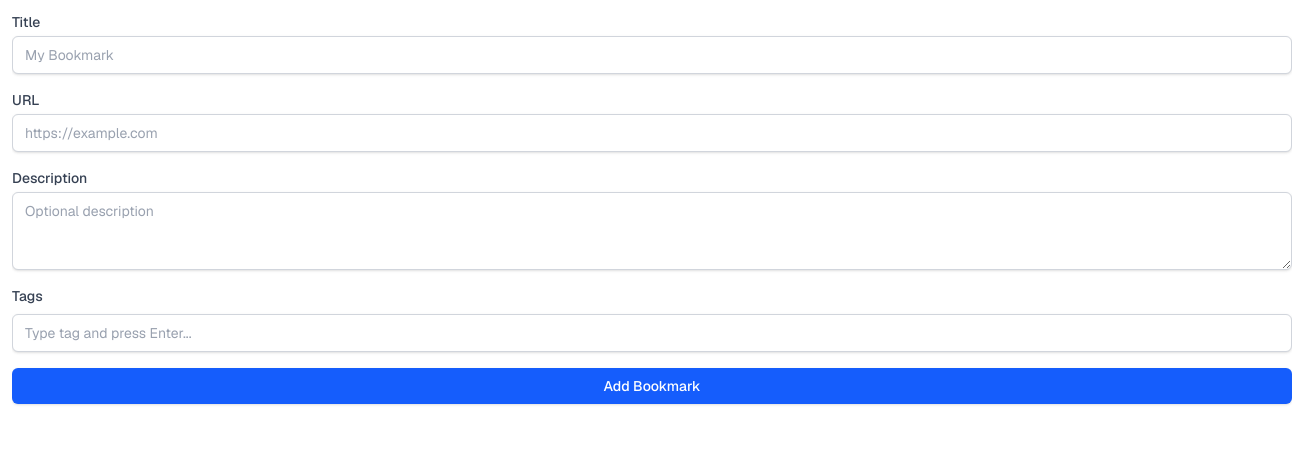
AddBookmarkForm (Edit Mode) › clears form fields after successful submit (add mode)
The image size is (1304, 456).
Type "New Bookmark" into the field labelled "Title".
click(652, 55); type("New Bookmark")  # box [12, 36, 1292, 74]
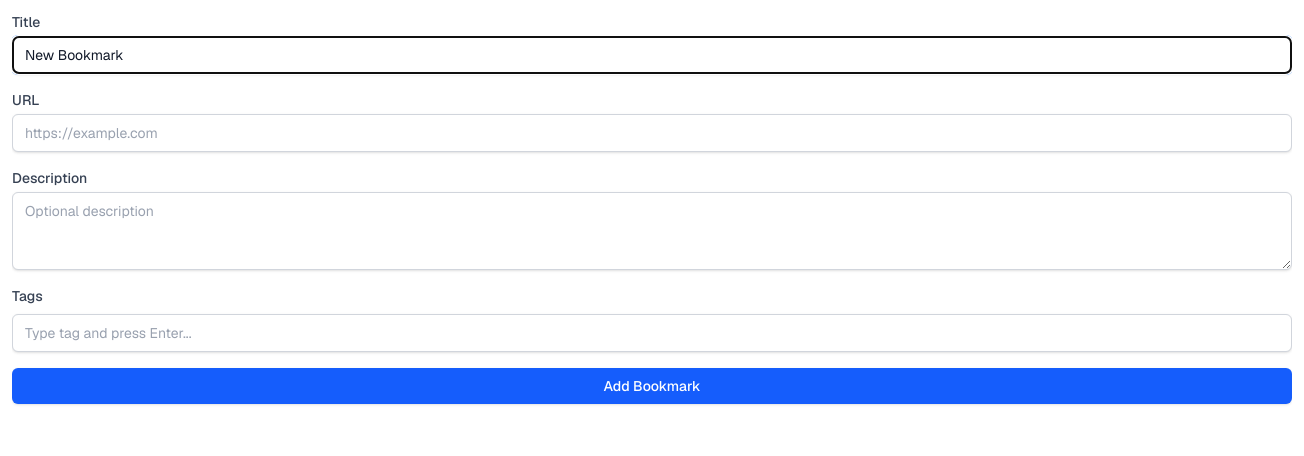
Type "https://new-bookmark.com" into the field labelled "URL".
click(652, 133); type("https://new-bookmark.com")  # box [12, 114, 1292, 152]
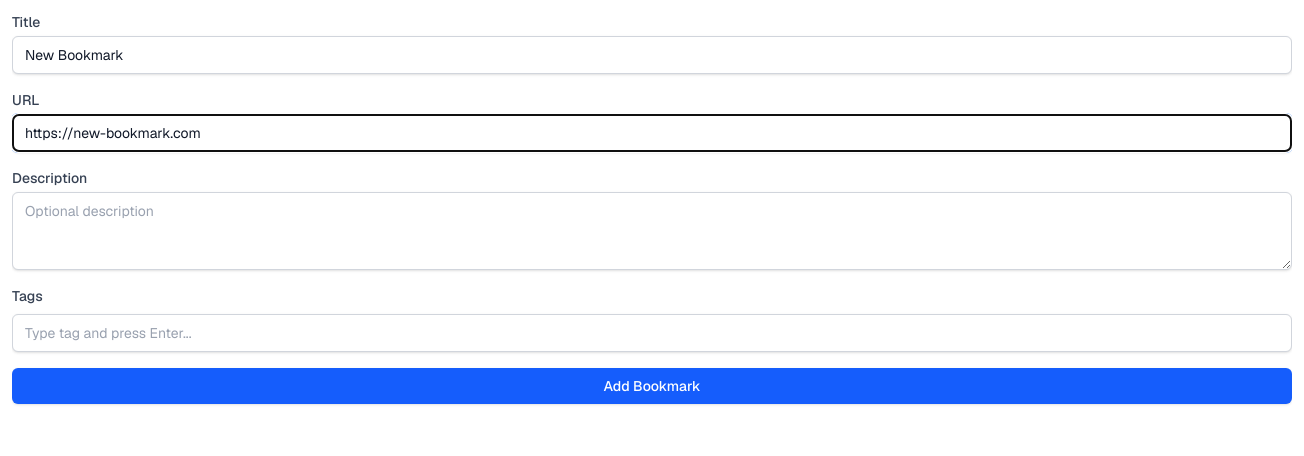
Click the button "Add Bookmark".
click(652, 386)  # box [12, 368, 1292, 404]
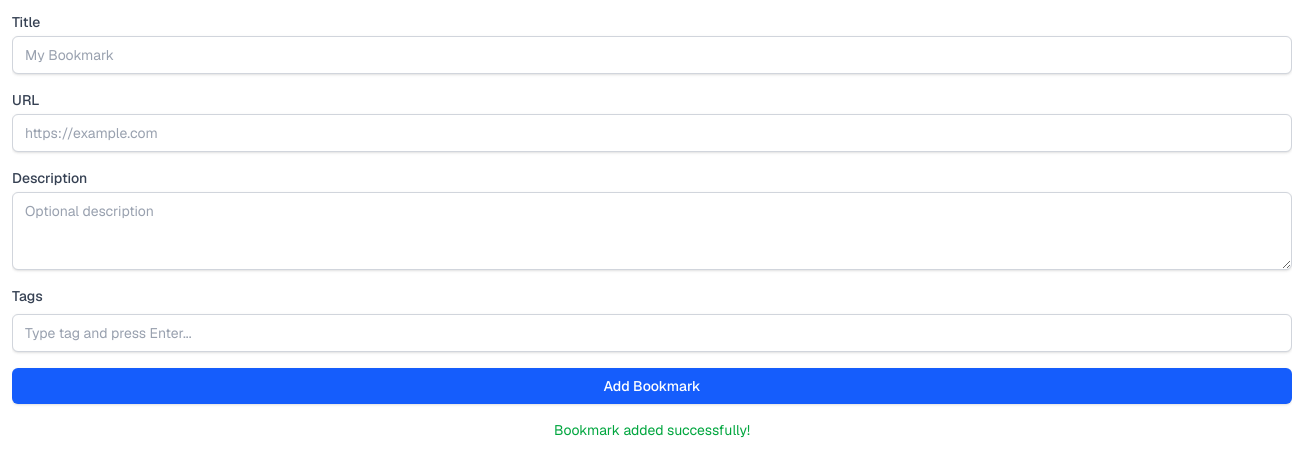
Result: the text "Bookmark added successfully!" is shown at [554, 421, 750, 439]
Result: the field labelled "Title" is empty at [12, 36, 1292, 74]
Result: the field labelled "URL" is empty at [12, 114, 1292, 152]
